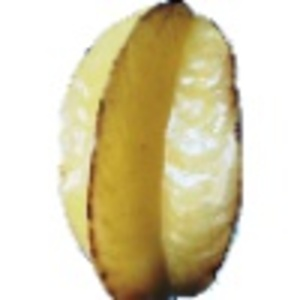carambola: (57, 1, 245, 300)
